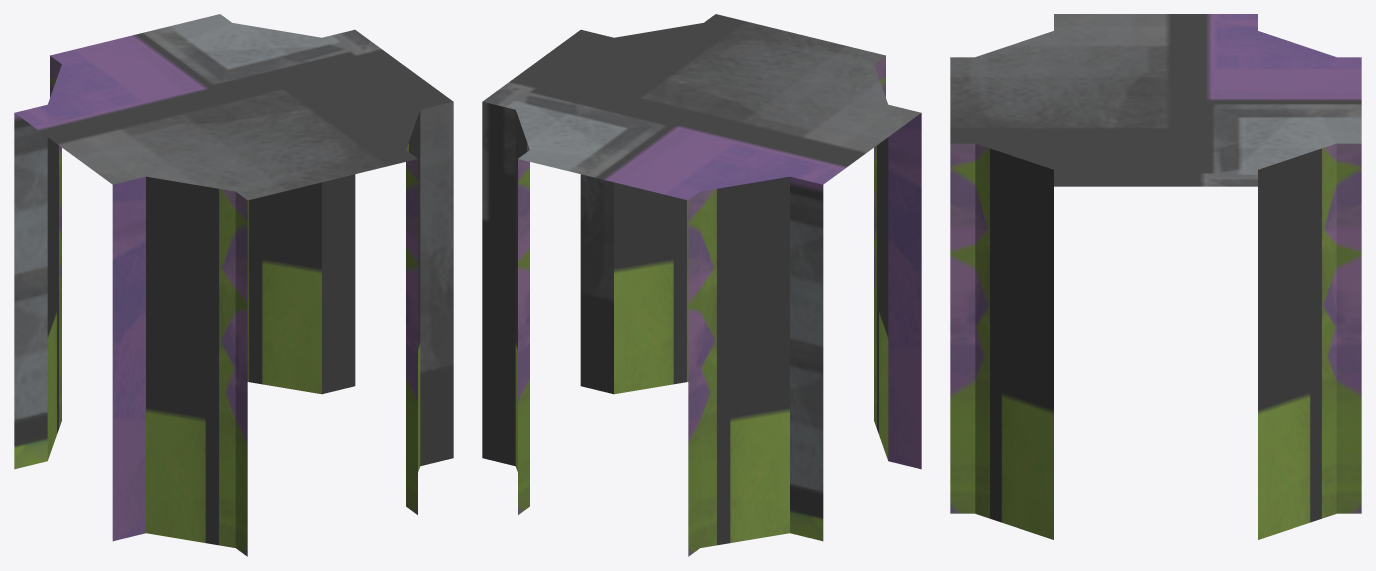
File: wall_junction_shape.fbx
3 renders of one model, left to right at view 1: azimuth 30°, elevation 25°; view 2: azimuth 150°, elevation 25°; view 3: azimuth 270°, elevation 25°, orthographic. The views are drawn at different scales.
Visible parts, largest first — view 1: wall_cross_shape; view 2: wall_cross_shape; view 3: wall_cross_shape.
Part boxes in pixels (x1,y1,x2,y2): wall_cross_shape: [14, 14, 453, 556]; wall_cross_shape: [482, 14, 921, 556]; wall_cross_shape: [950, 14, 1361, 539].
Size of the model in its own units: 0.02 by 0.02 by 0.0201.
